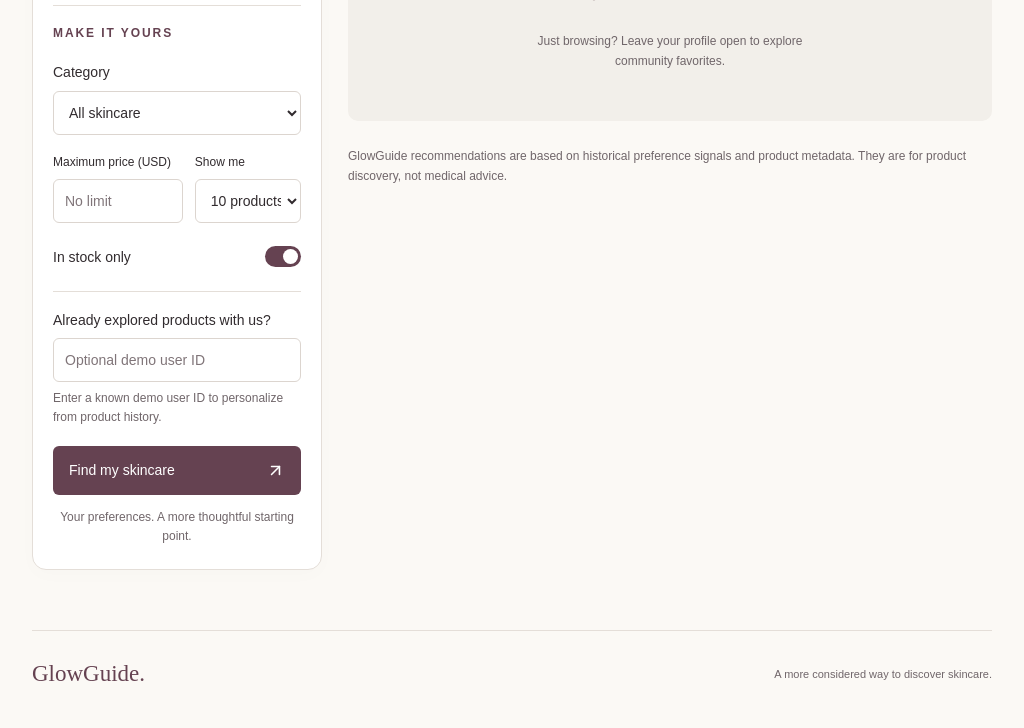
Scenario: recommendation experience › preserves backend order and handles missing optional metadata
The width and height of the screenshot is (1024, 728).
(page scrolled)
Click the button "Find my skincare".
click(177, 470)  # box [53,446,301,495]
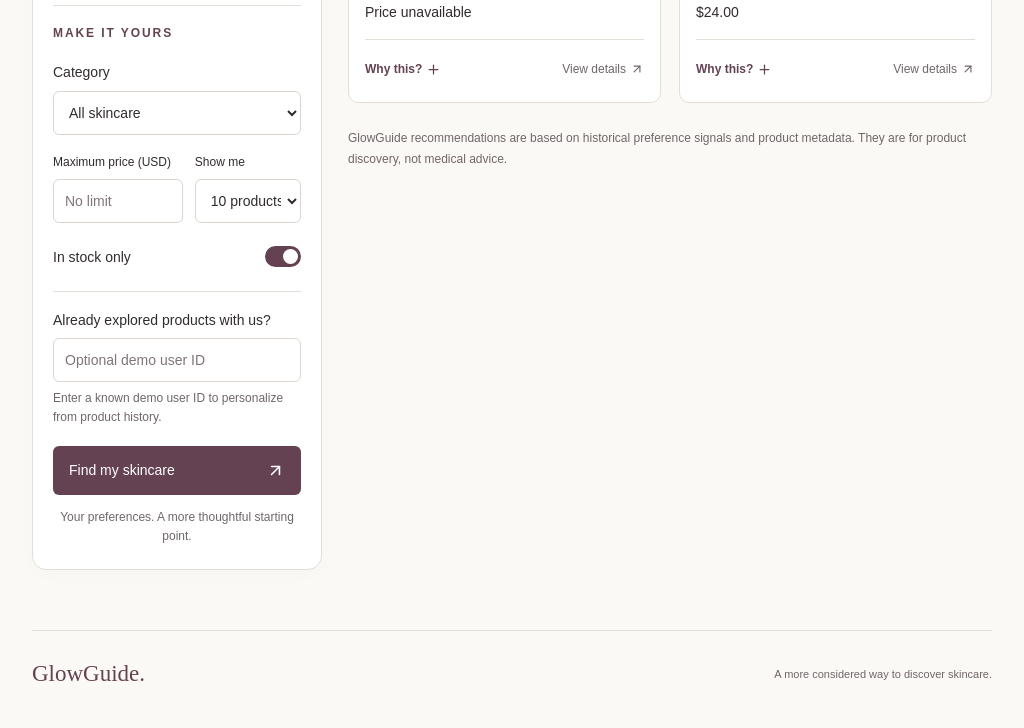
Result: the text "Price unavailable" is shown at [365,4,472,20]
